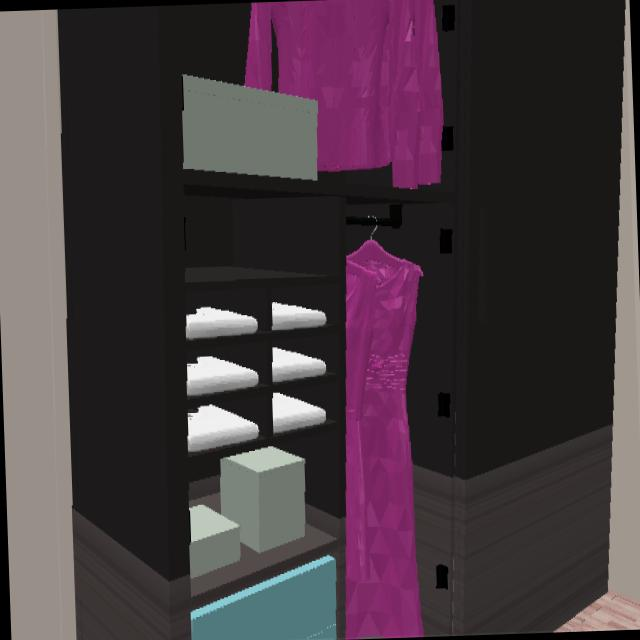wardrobe: (58, 0, 624, 640)
